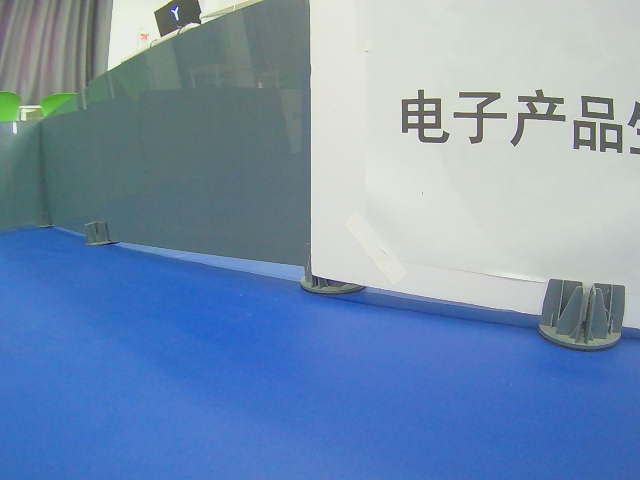target: (400, 86, 640, 159)
